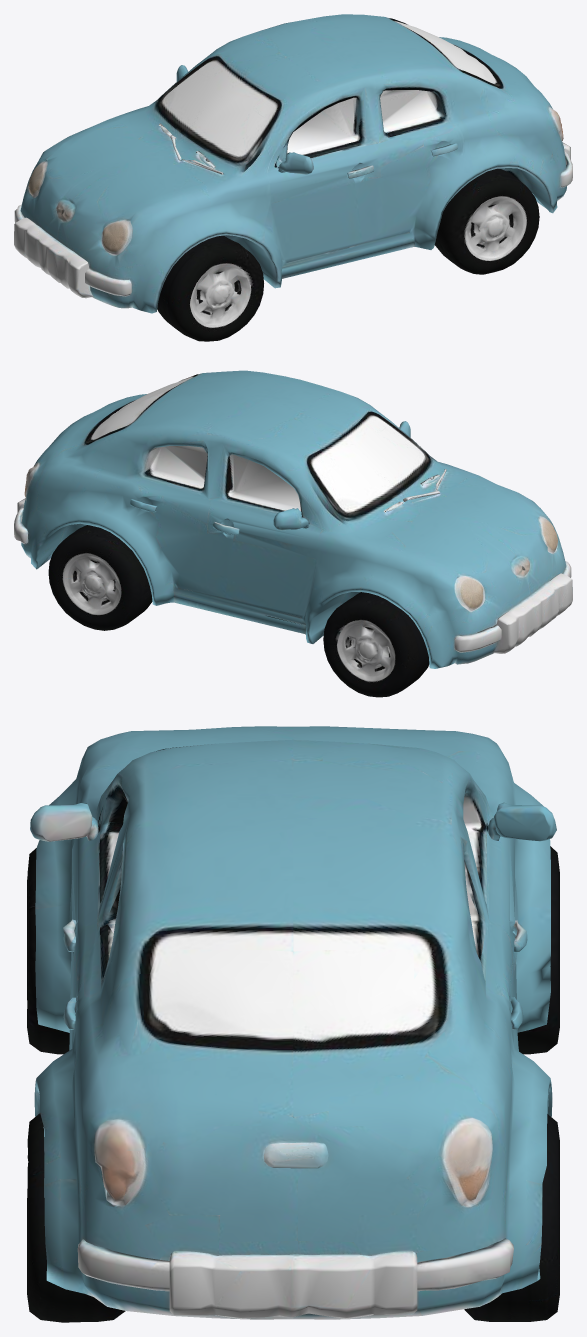
The model's file is trafficSedan.5c9c3aaf.glb.
3 renders of one model, top to bottom at view 1: azimuth 30°, elevation 25°; view 2: azimuth 150°, elevation 25°; view 3: azimuth 270°, elevation 25°, orthographic. The views are drawn at different scales.
Bounding box in the file's own units: 0.9531 × 0.3804 × 0.4419.
1 material, 1 textured.
